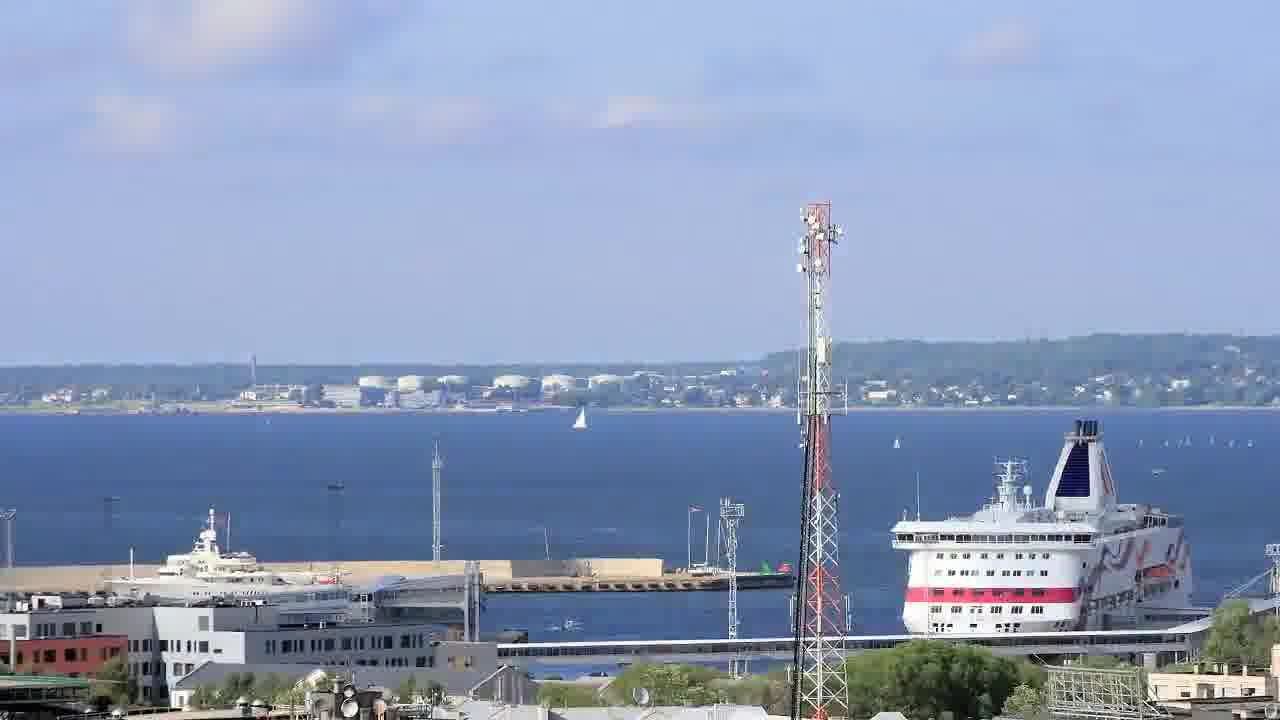type-2: (550, 386, 607, 445)
type-3: (868, 415, 1225, 638), (84, 511, 353, 609)
